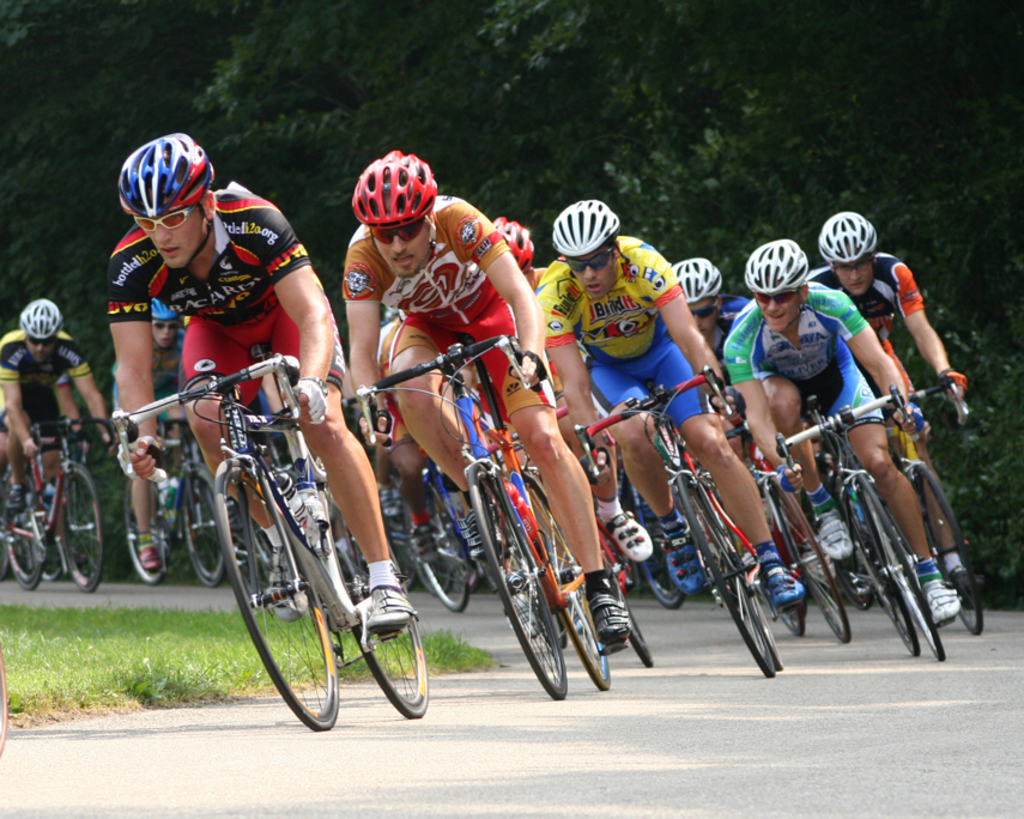Bike: (110, 361, 443, 725), (360, 335, 642, 701), (583, 371, 819, 682), (785, 392, 973, 664)
